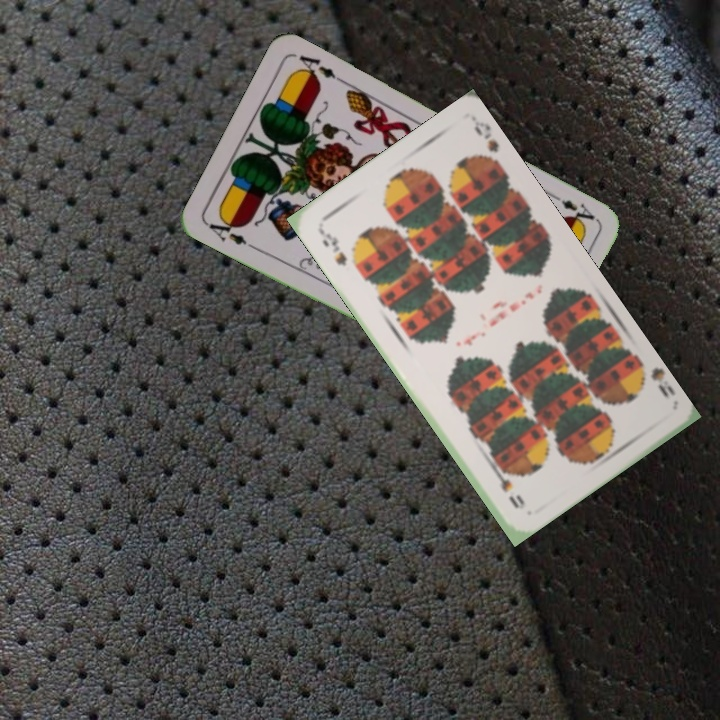EA: (546, 189, 600, 224), (202, 212, 250, 248)
S9: (628, 356, 676, 401), (314, 224, 350, 269)
